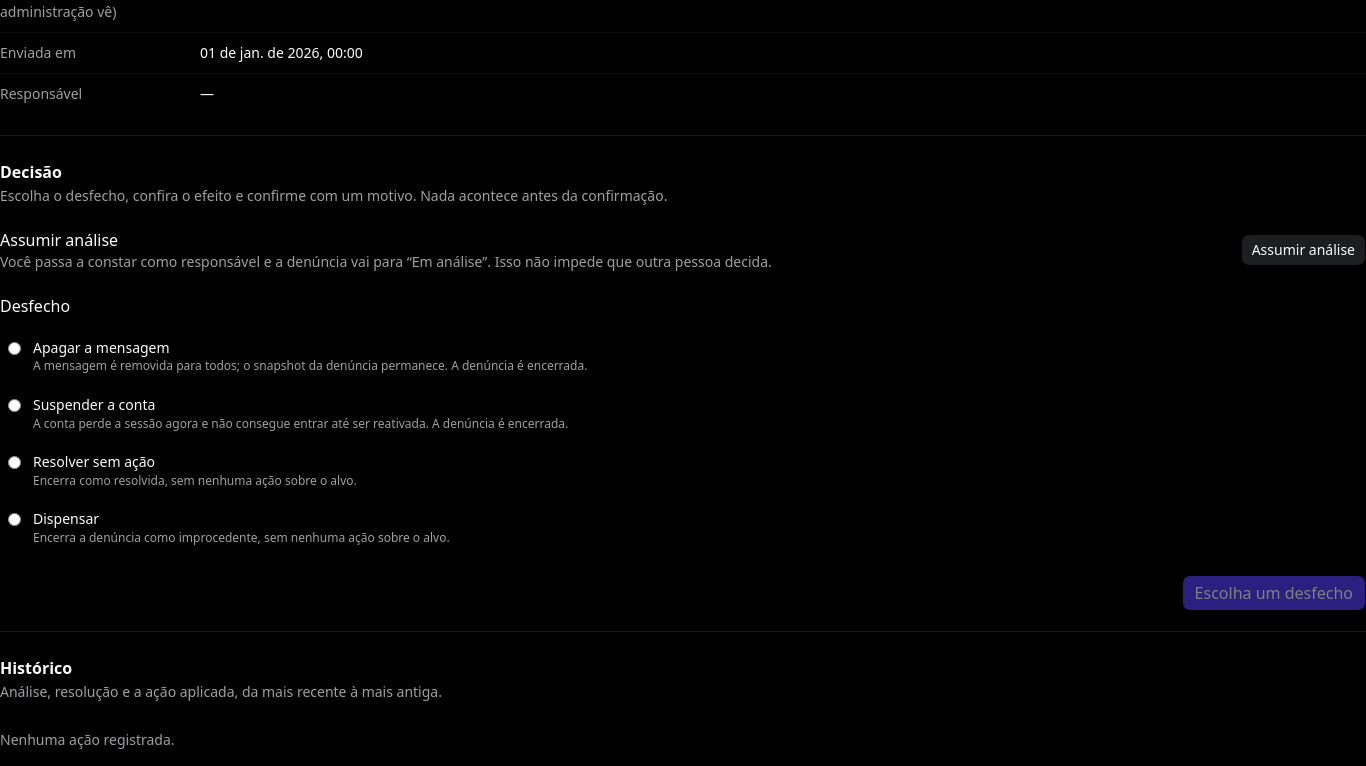
Test: ReportDetailPage › the dialog states the concrete effect on the concrete target: suspending the author is not suspending the group
(page scrolled)
Click the radio button labelled "Suspender a conta": (14, 406) [8,399,21,412]
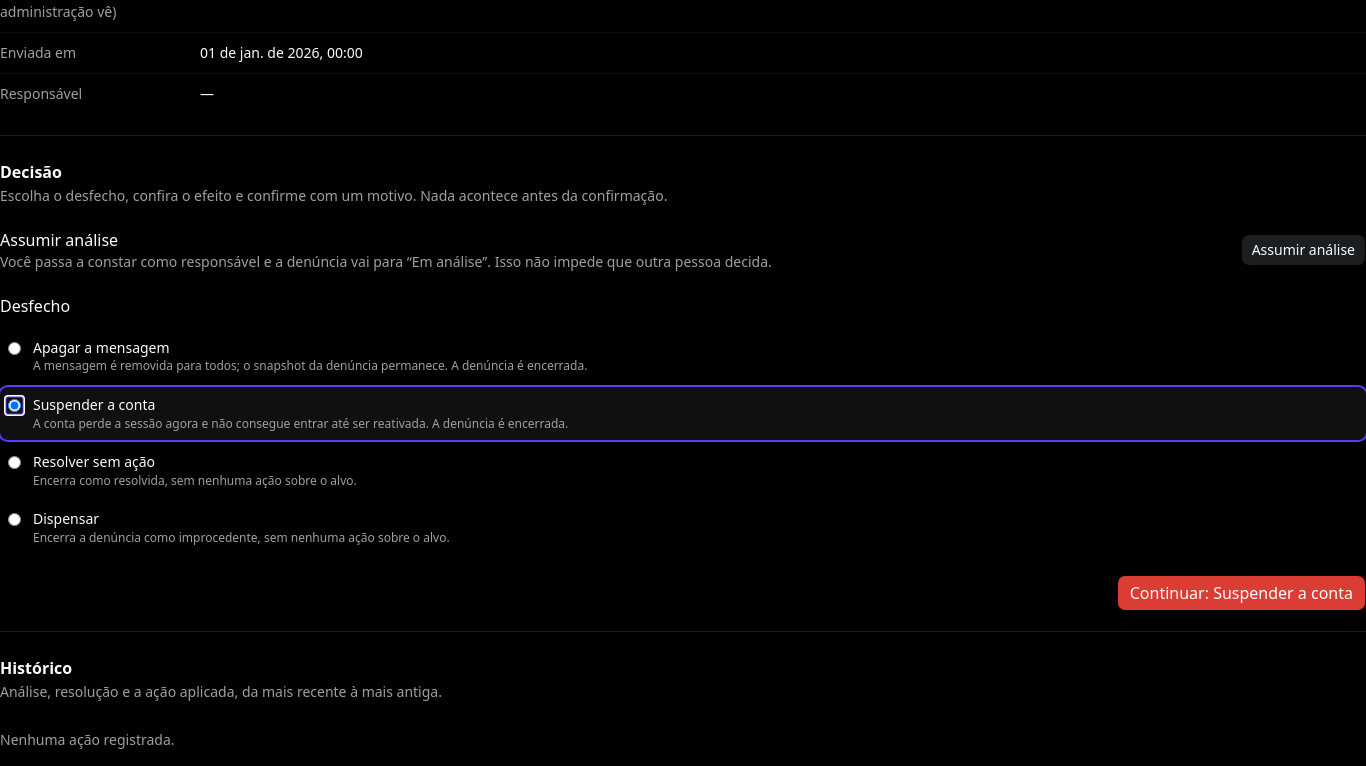
Click the button "Continuar: Suspender a conta": (1241, 592) [1117,574,1365,610]
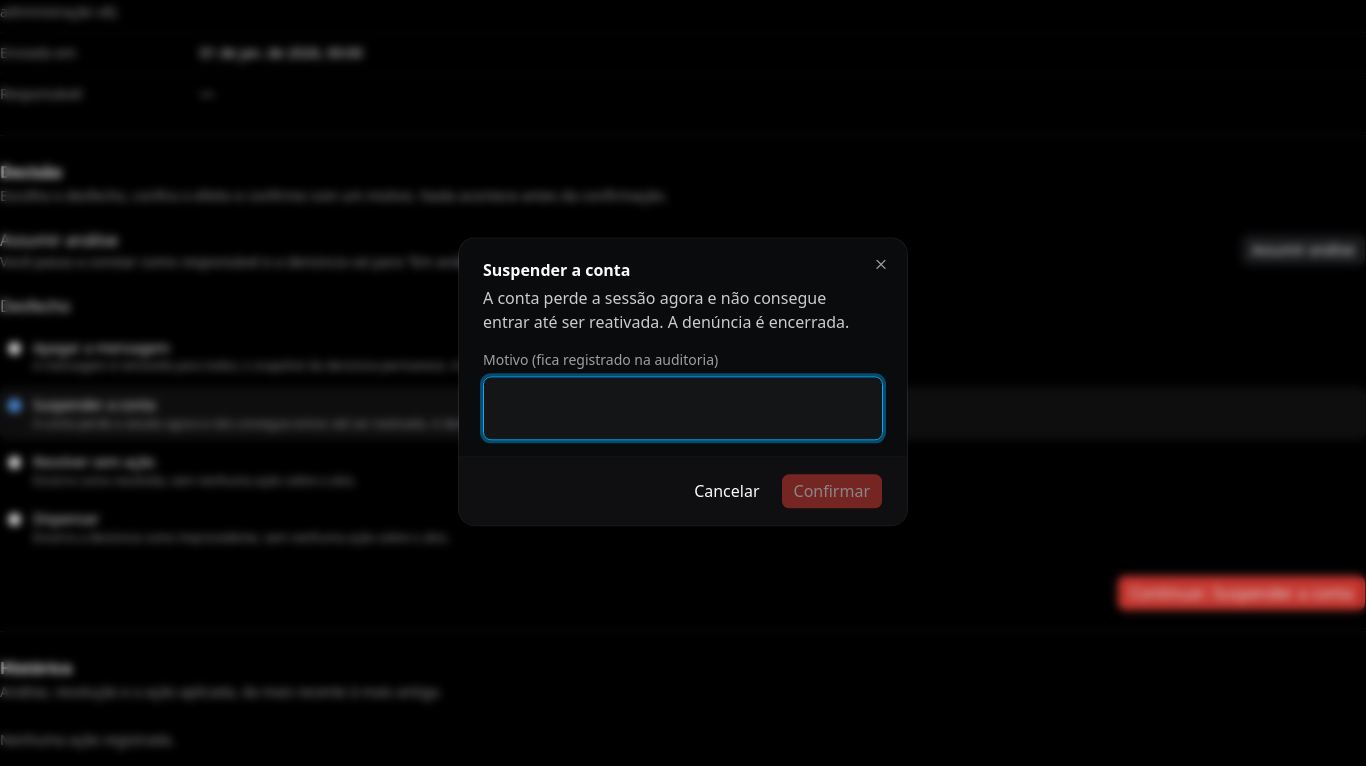
Result: the dialog shows "A conta perde a sessão agora" at [483,287,849,333]
